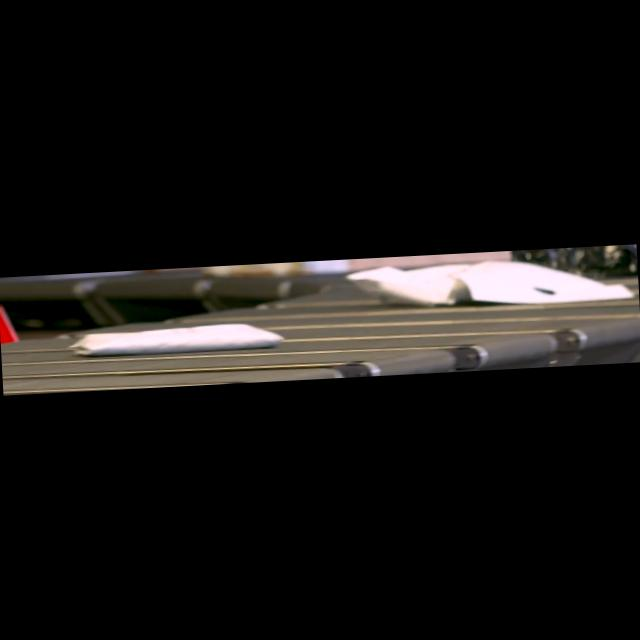mailer: (351, 247, 635, 316), (82, 324, 282, 359)
